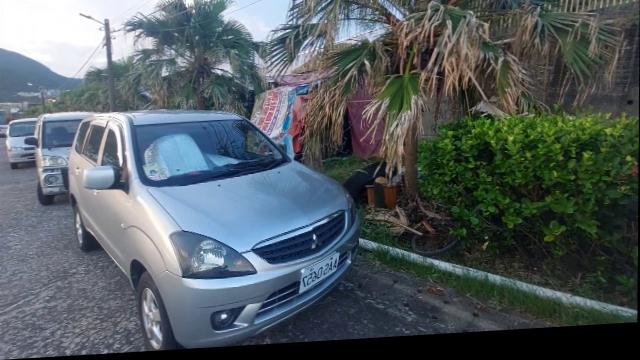pollute: (342, 167, 466, 261), (237, 70, 339, 162), (347, 90, 384, 162)
